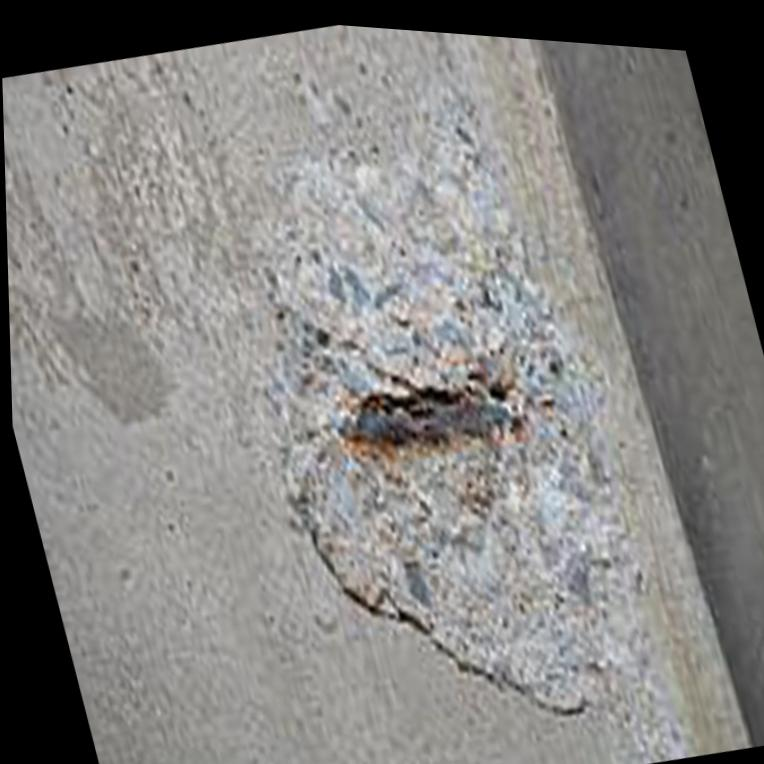damage: (269, 99, 610, 705)
